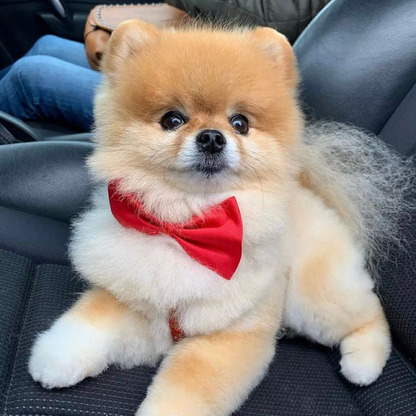Pomeranian: (36, 31, 391, 395)
